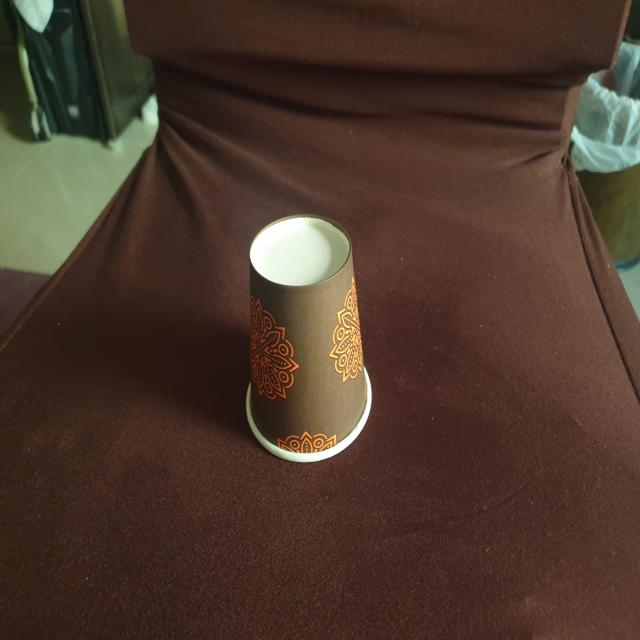cups: (239, 210, 378, 462)
